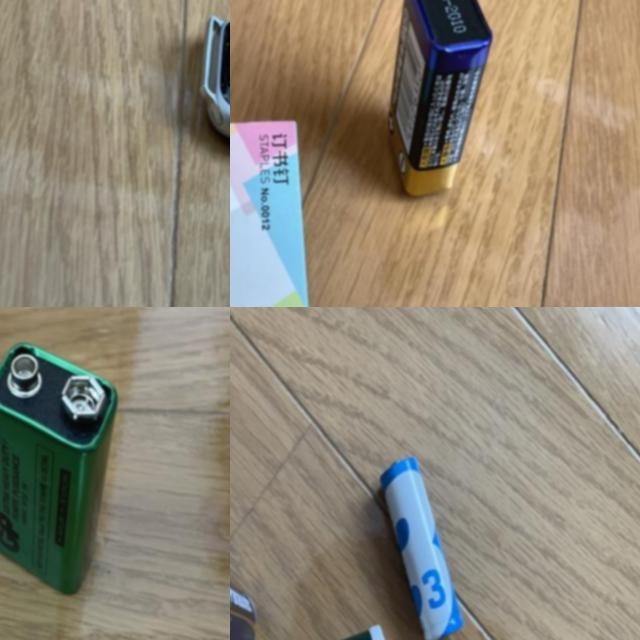9V: (0, 344, 118, 598), (385, 0, 493, 198)
